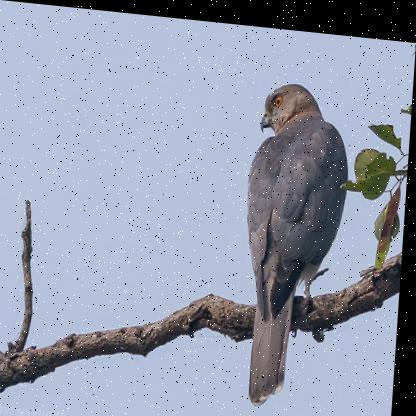Burung: (239, 74, 354, 405)
